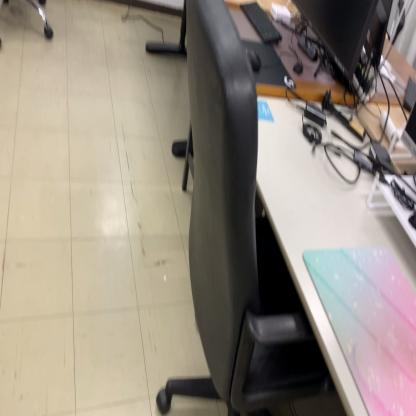chair: (155, 1, 333, 416)
